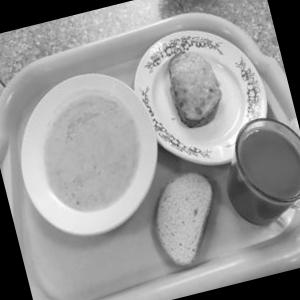bread: (142, 162, 232, 276)
cheese_sandwich: (153, 38, 240, 143)
coffee: (210, 107, 300, 240)
porridge: (22, 80, 156, 225)
